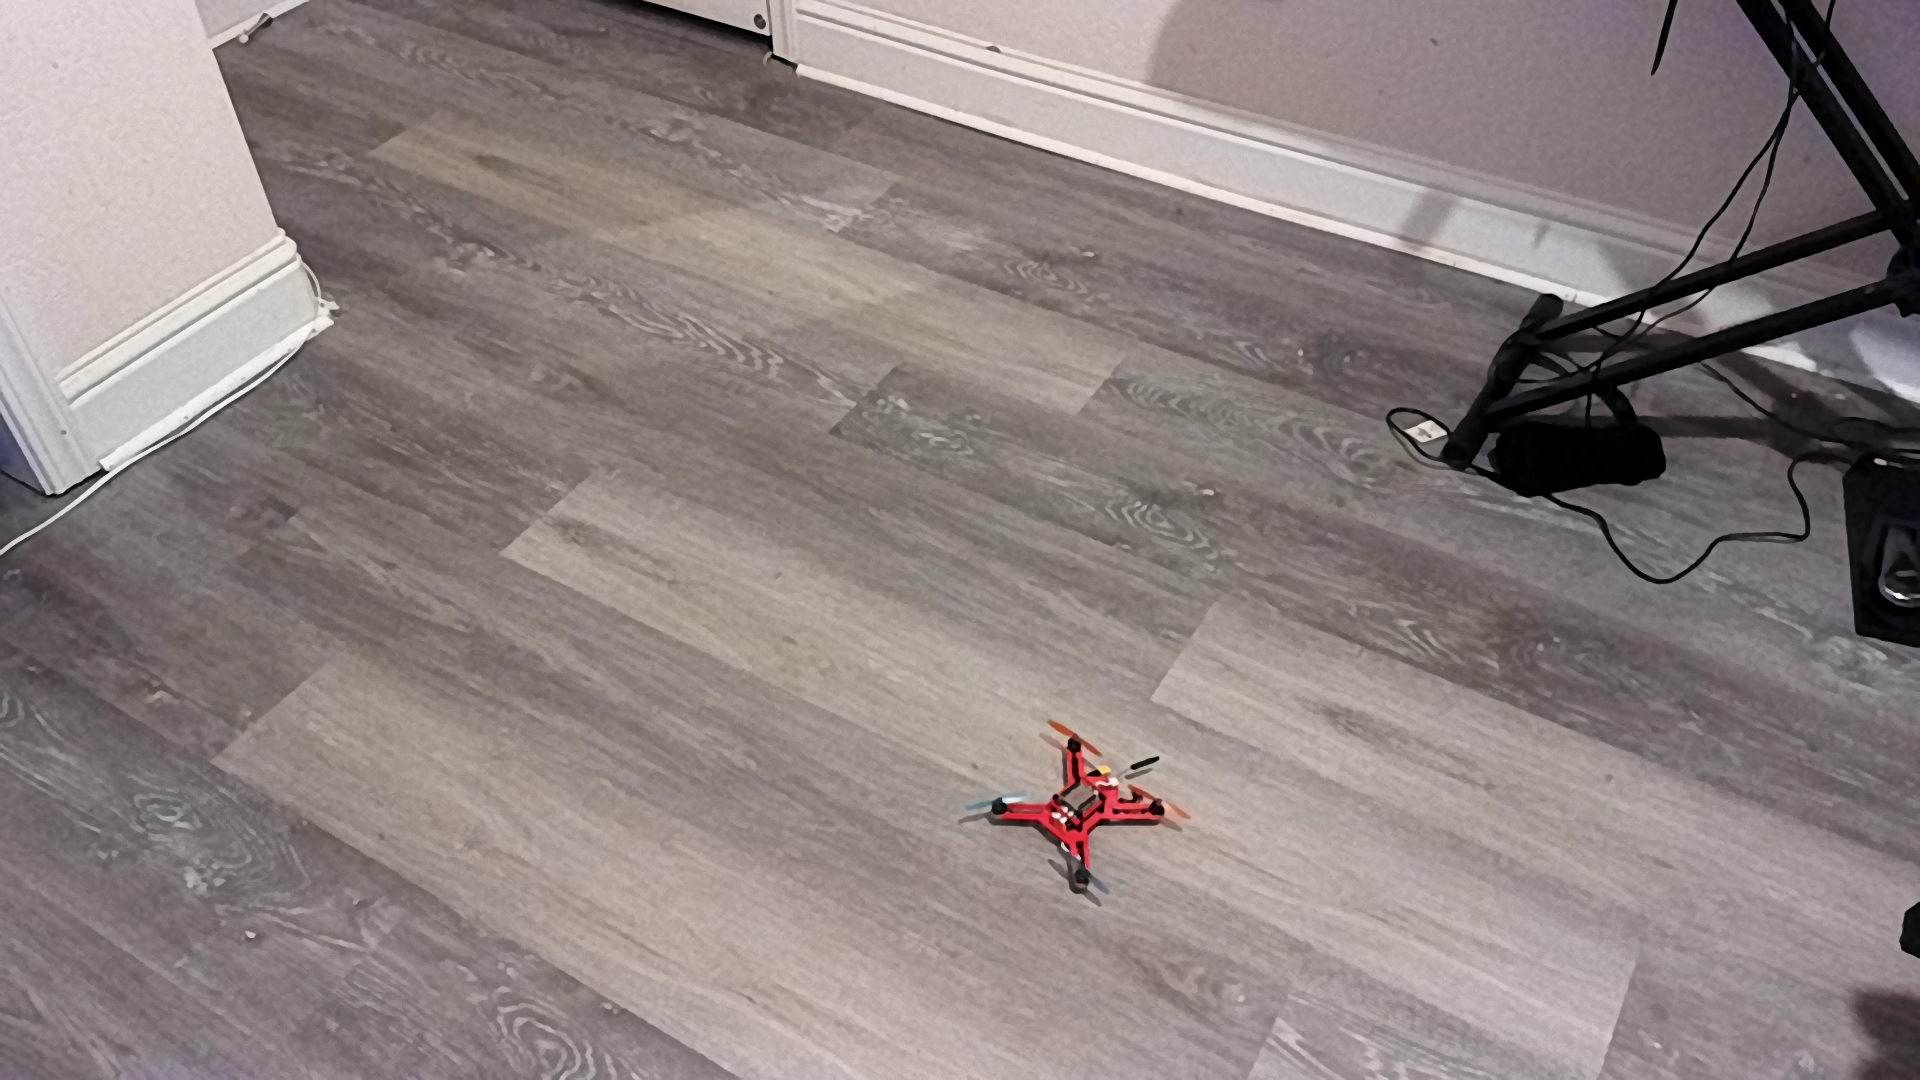drone: (945, 716, 1215, 918)
